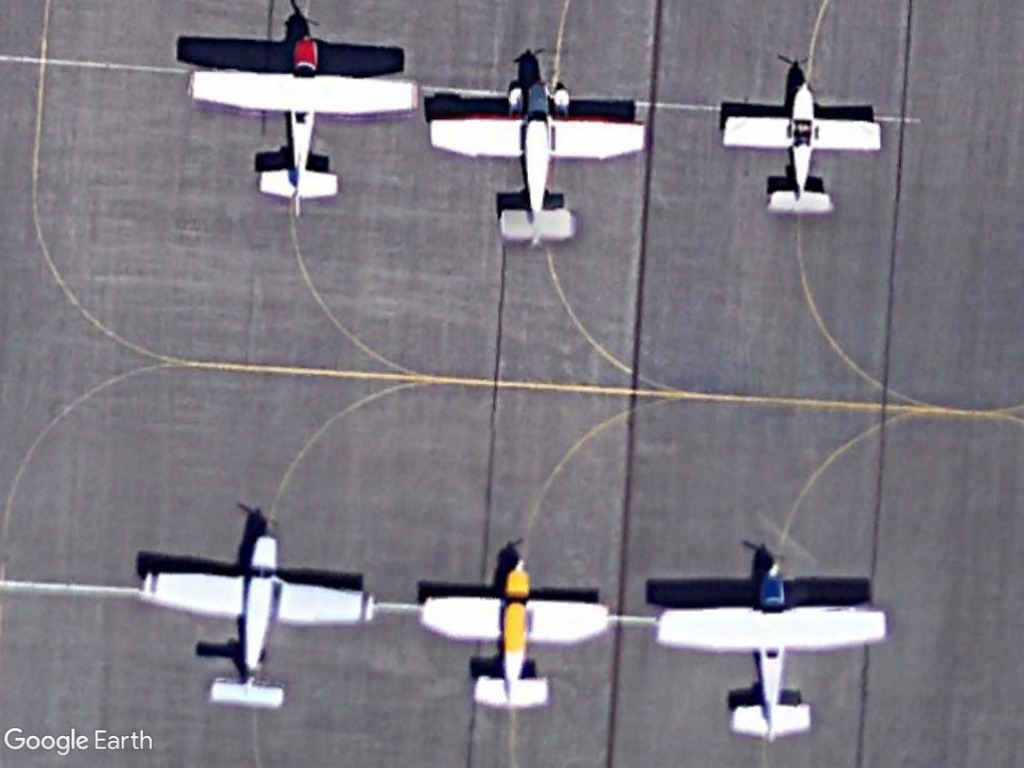trainer: (178, 31, 431, 211), (133, 531, 382, 713), (650, 564, 889, 739), (428, 77, 658, 245), (409, 562, 614, 713), (714, 79, 890, 219)
